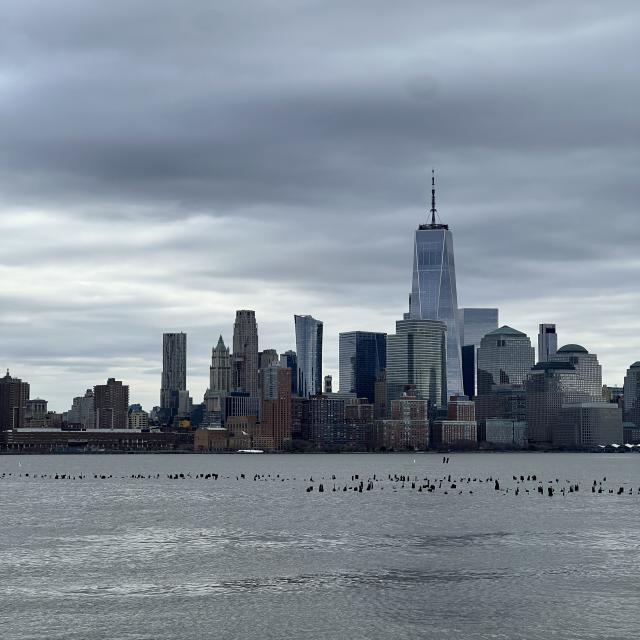WTC: (411, 165, 459, 320)
